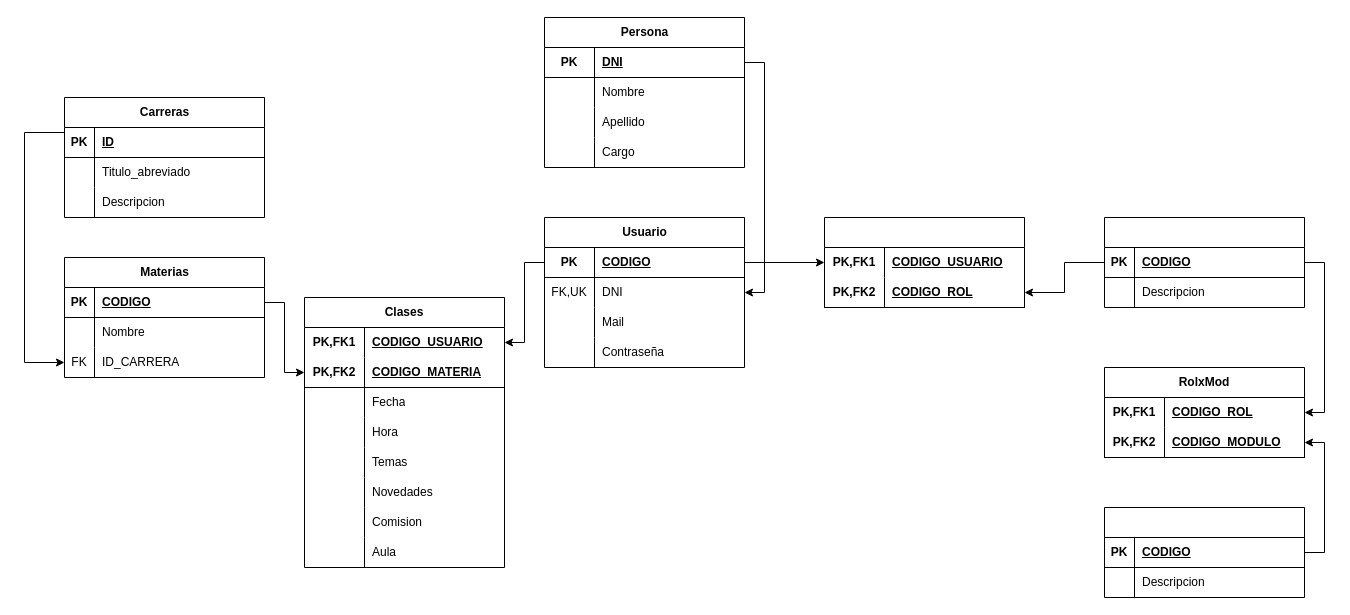
The diagram is 1350 pixels wide and 615 high, and some of its shapes have lost their labels. The box of each missing label's shape, as (x1, y1, x2, y2) in pixels:
Modulos: (1104, 506, 1304, 598)
Roles: (1104, 216, 1304, 308)
UsuXRol: (824, 216, 1024, 308)
